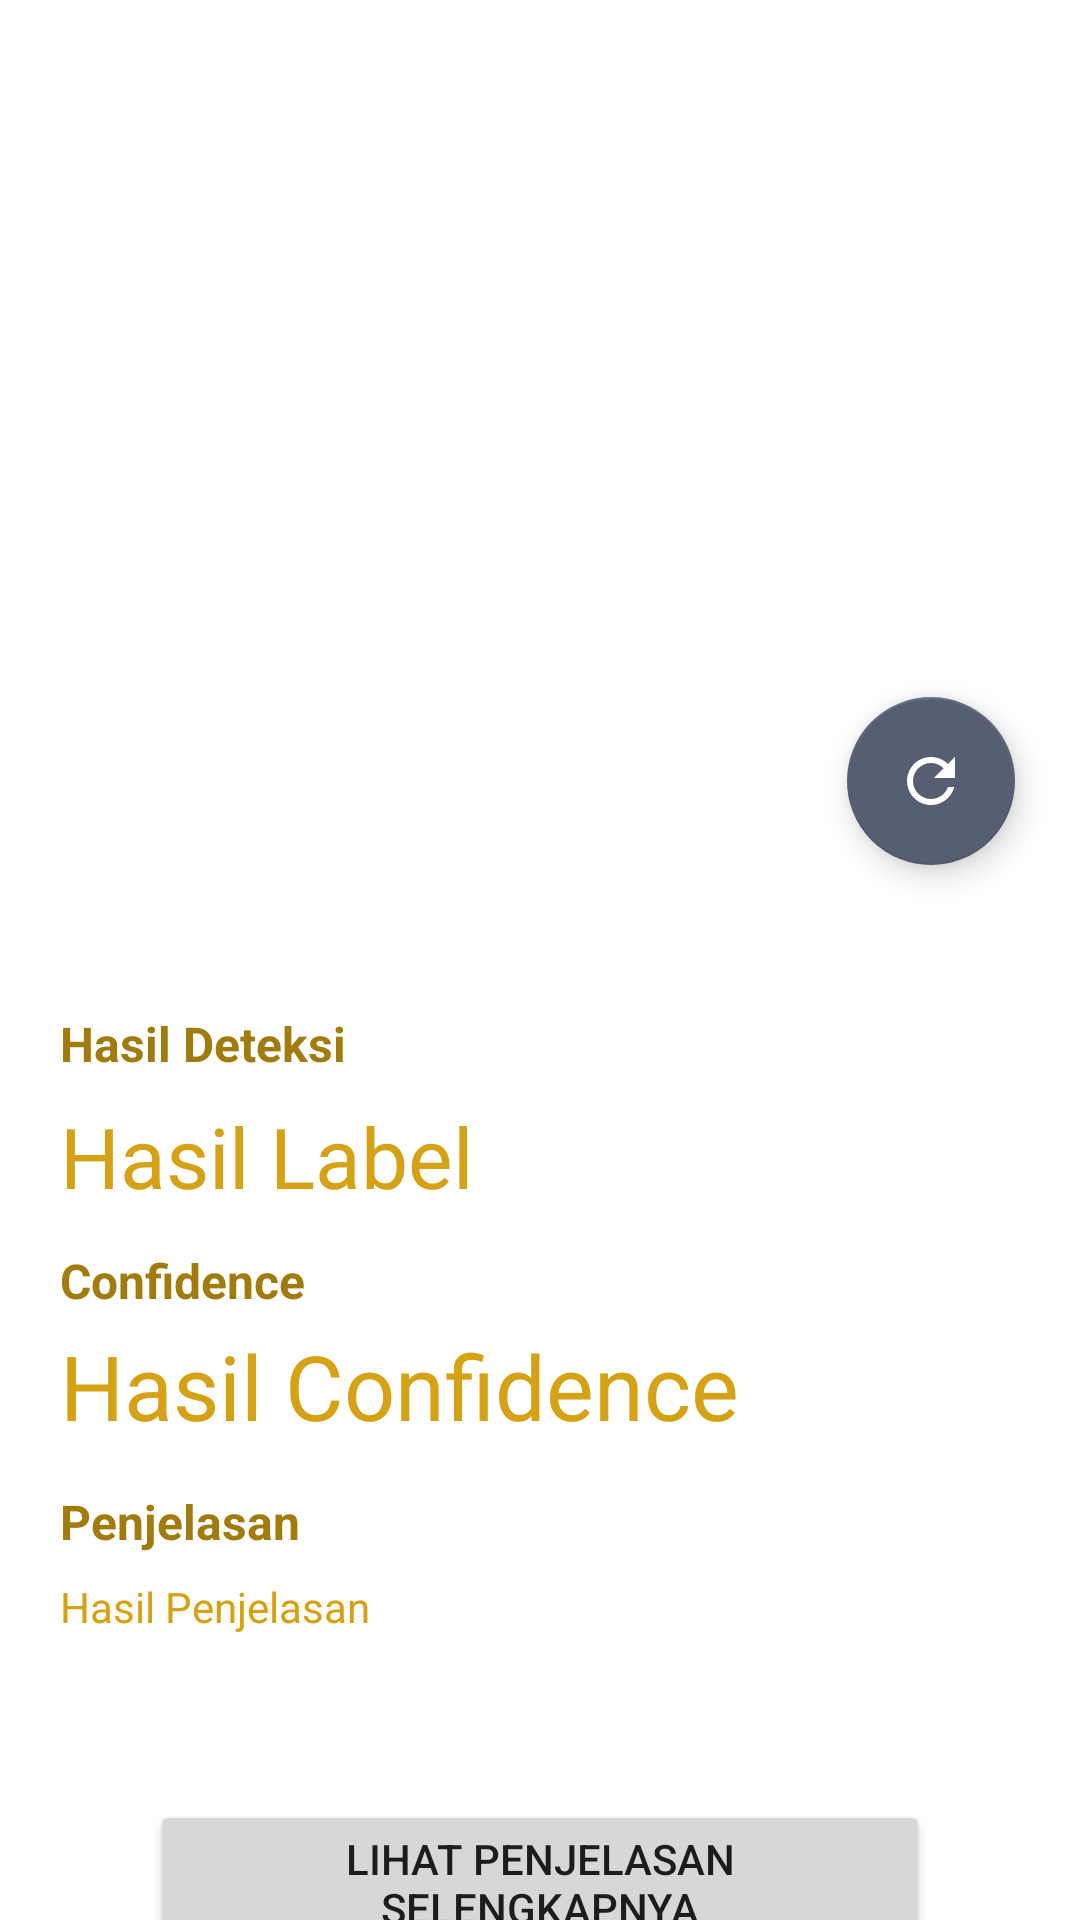

Icons on this 1080 × 1920 Android screen, each with the point to tap as [x,y]:
Scan Lagi: [931,781]
